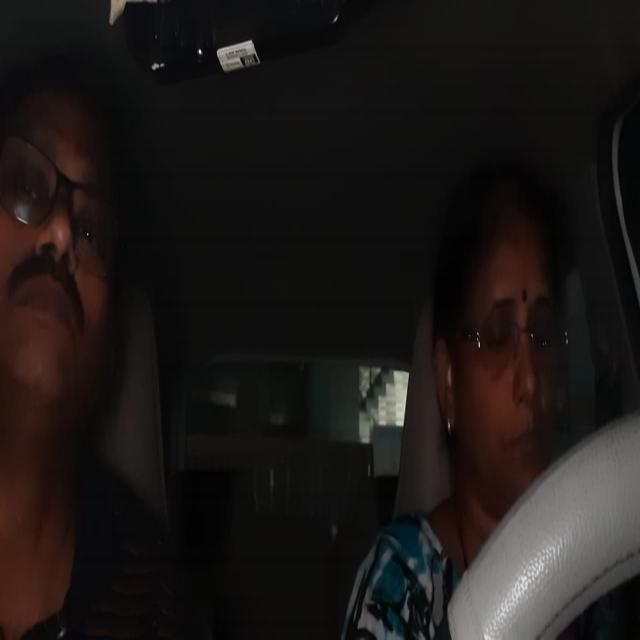drowsy: (428, 147, 576, 507)
person: (0, 29, 146, 476)
